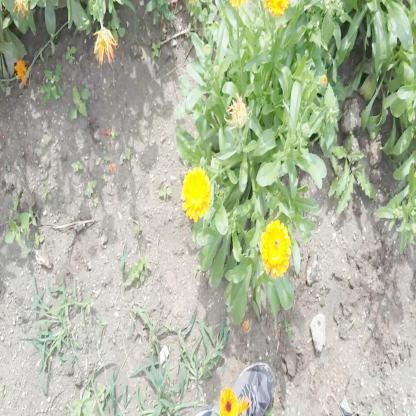marigold: (261, 221, 291, 276), (182, 166, 210, 219), (92, 26, 115, 62), (218, 389, 239, 416)
